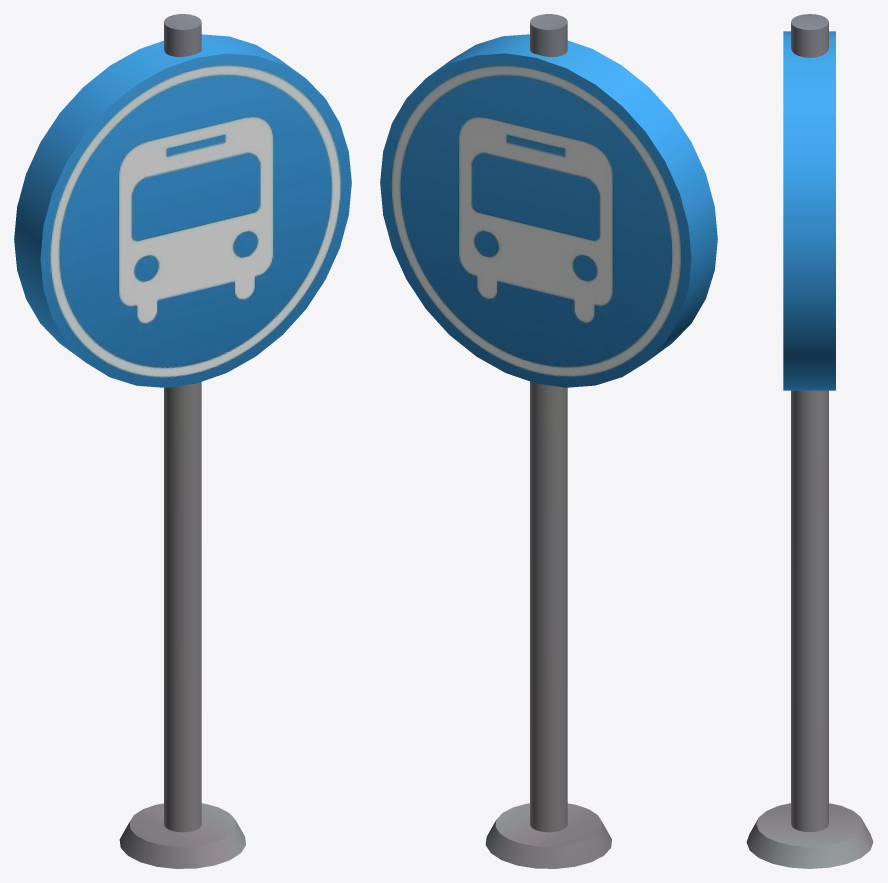
File: stopsign.glb
The picture shows the model from 3 angles, left to right: view 1: azimuth 30°, elevation 25°; view 2: azimuth 150°, elevation 25°; view 3: azimuth 270°, elevation 25°; orthographic projection.
Parts seen in each view (by area): view 1: stopsign; view 2: stopsign; view 3: stopsign.
Part boxes in pixels (left/top/right/bottom): stopsign: left=14, top=14, right=351, bottom=868; stopsign: left=380, top=14, right=717, bottom=868; stopsign: left=746, top=14, right=873, bottom=868.
Size of the model in its own units: 1.03 by 2.6 by 0.365.
1 material, 1 textured.
